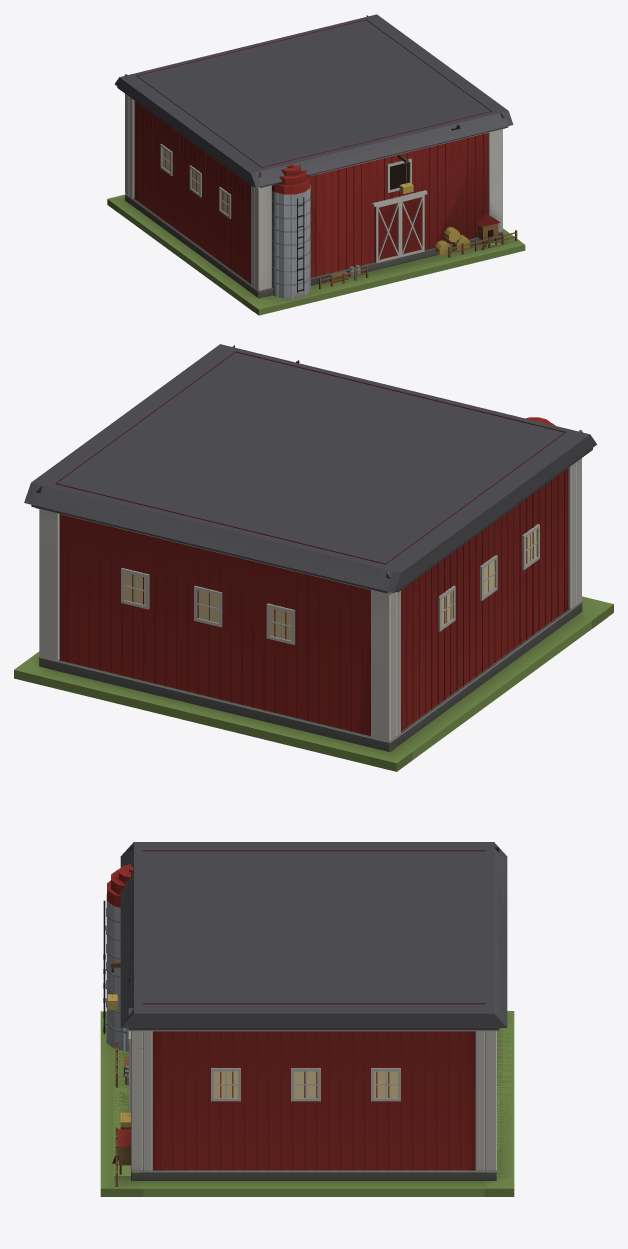
Rendered from SandChickFloor.fbx.
3 renders of one model, top to bottom at view 1: azimuth 30°, elevation 25°; view 2: azimuth 150°, elevation 25°; view 3: azimuth 270°, elevation 25°, orthographic. The views are drawn at different scales.
Parts seen in each view (by area): view 1: FM_S_All, FM_F_Rings, FM_F_Smooth, FM_F_Quiet, FM_F_Props, FM_F_Glass; view 2: FM_S_All, FM_F_Rings, FM_F_Smooth, FM_F_Quiet, FM_F_Glass; view 3: FM_S_All, FM_F_Rings, FM_F_Smooth, FM_F_Quiet, FM_F_Glass, FM_F_Props.
Boxes of the visible parts, x1,y1,x2,y2 form: FM_S_All: (108,14,520,305); FM_F_Rings: (118,15,508,298); FM_F_Smooth: (107,86,525,315); FM_F_Quiet: (108,194,524,309); FM_F_Props: (272,165,500,283); FM_F_Glass: (162,148,228,214); FM_S_All: (16,344,606,771); FM_F_Rings: (31,345,591,751); FM_F_Smooth: (14,360,613,771); FM_F_Quiet: (14,596,613,762); FM_F_Glass: (124,530,536,640); FM_S_All: (108,842,514,1196); FM_F_Rings: (106,845,507,1180); FM_F_Smooth: (100,866,513,1196); FM_F_Quiet: (100,1011,513,1188); FM_F_Glass: (214,1071,397,1097); FM_F_Props: (107,864,130,1165).
Size of the model in its own units: 60 by 20 by 60.
